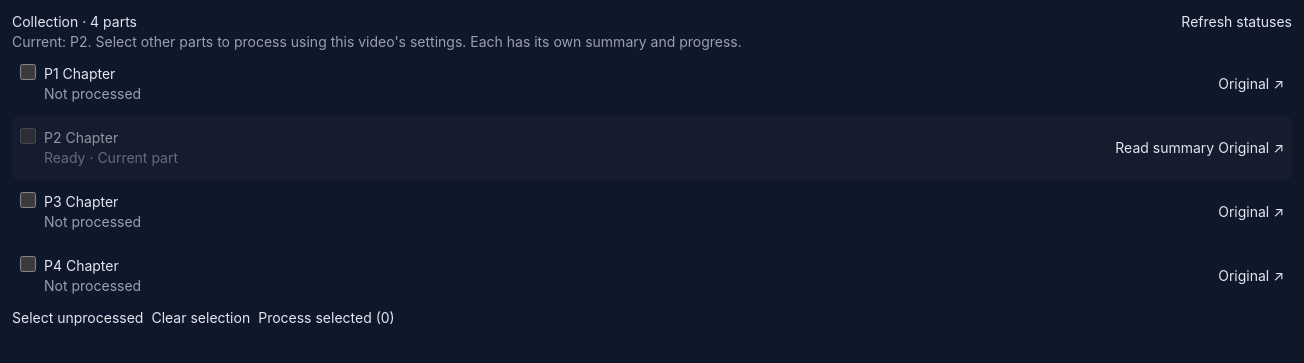
Test: shows all parts, skips the current part and submits only selected other parts
Expected: the number of checkboxes is 4, [20, 64, 36, 80]; [20, 128, 36, 144]; [20, 192, 36, 208]; [20, 256, 36, 272]
Expected: the checkbox labelled "P2 Chapter Ready · Current part" is disabled, [20, 128, 36, 144]
What coordinates should you click on to do the following:
click the button "Select unprocessed"
I would click on:
 (78, 318)
Its box is [12, 308, 144, 328].
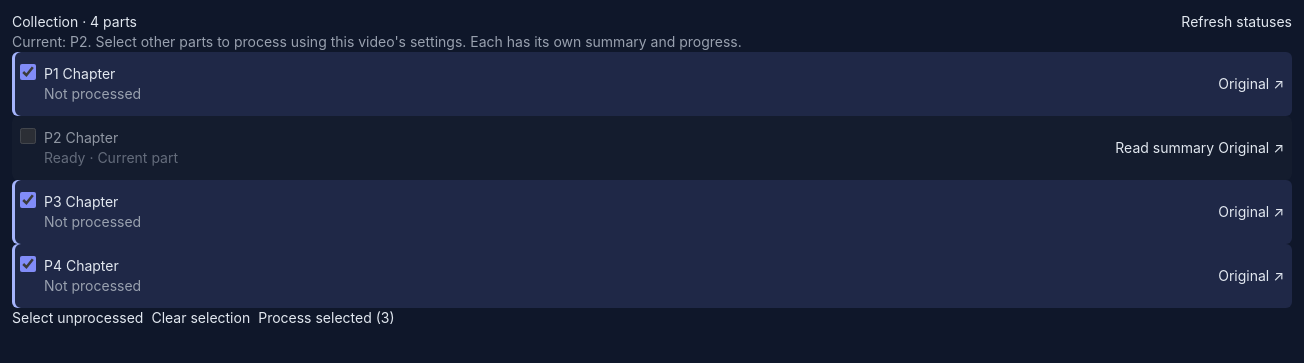
Expected: the button "Process selected (3)" is shown
What coordinates should you click on to do the following:
click the button "Process selected (3)"
I would click on:
 (326, 318)
Its box is [258, 308, 394, 328].
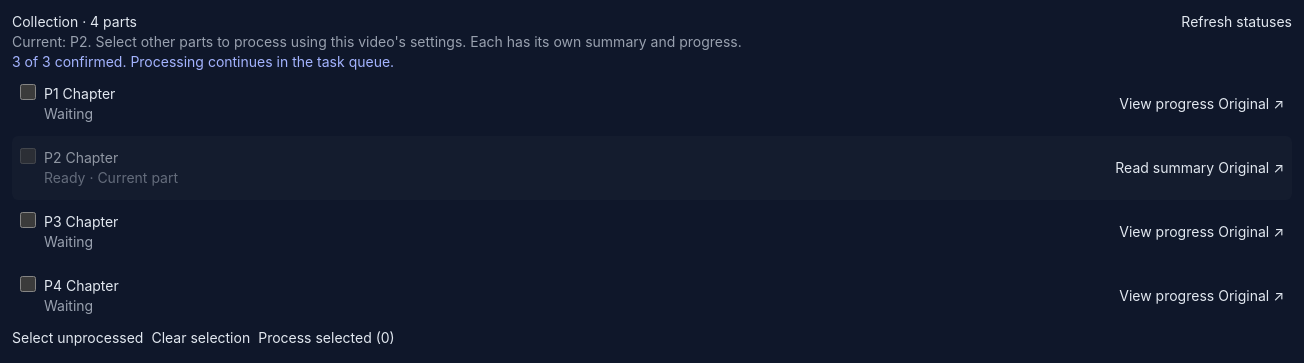
Expected: the link to "/videos/current" reads "Read summary", [1115, 158, 1214, 178]
Expected: the text "3 of 3 confirmed" is shown, [12, 53, 394, 70]
Expected: the link to "/videos/part-3" reads "View progress", [1119, 222, 1214, 242]
